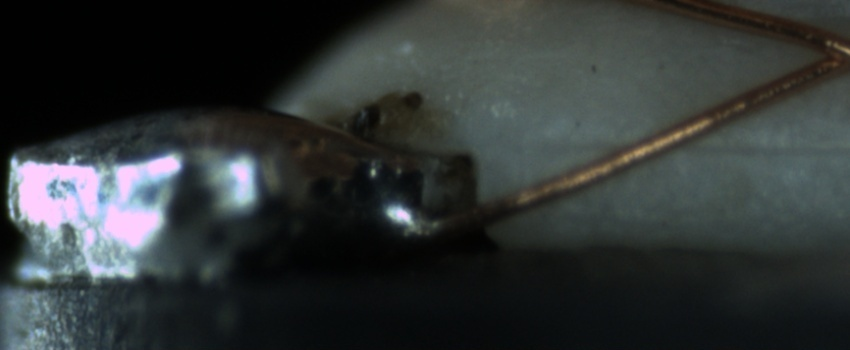CL: (797, 21, 849, 80)
DL: (531, 113, 850, 177)
